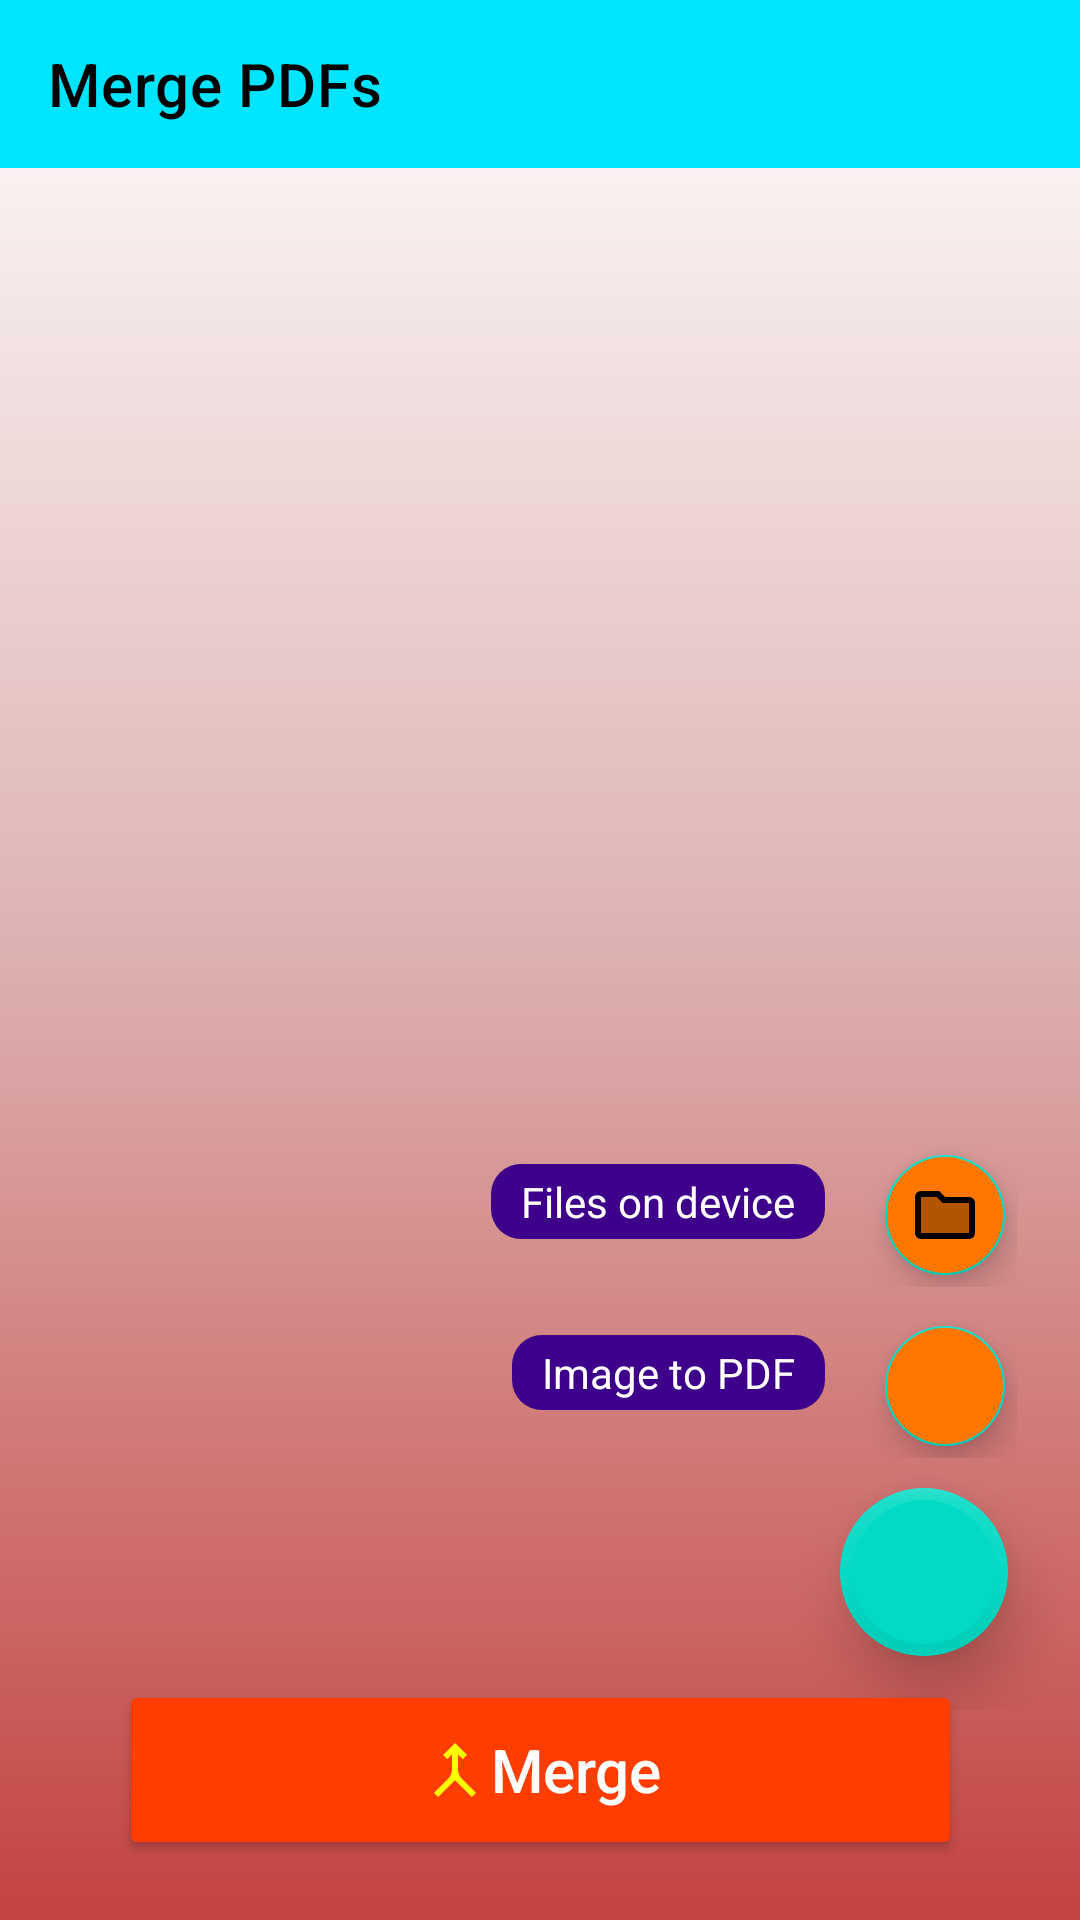

Icons on this 1080w x 1920h Android screen, each with its box as bbox(x1, y1, x2, y2):
folder: bbox(885, 1155, 1005, 1282)
